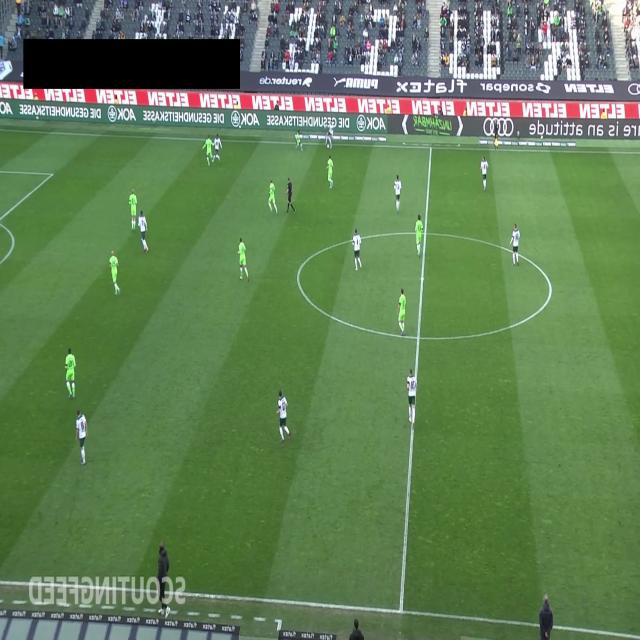ball: (326, 143, 329, 150)
player: (75, 408, 88, 466), (276, 389, 290, 442), (406, 368, 418, 426), (237, 237, 250, 282), (65, 346, 76, 398), (109, 250, 121, 296), (138, 209, 149, 253), (510, 222, 520, 266), (397, 288, 406, 336), (352, 228, 362, 271), (415, 214, 424, 257), (202, 134, 214, 166), (129, 188, 137, 232), (393, 174, 402, 213), (268, 179, 278, 214), (479, 155, 488, 192), (326, 154, 334, 189), (324, 119, 333, 150), (213, 133, 222, 163), (295, 131, 303, 150)
referee: (284, 177, 296, 214), (492, 119, 498, 150)
